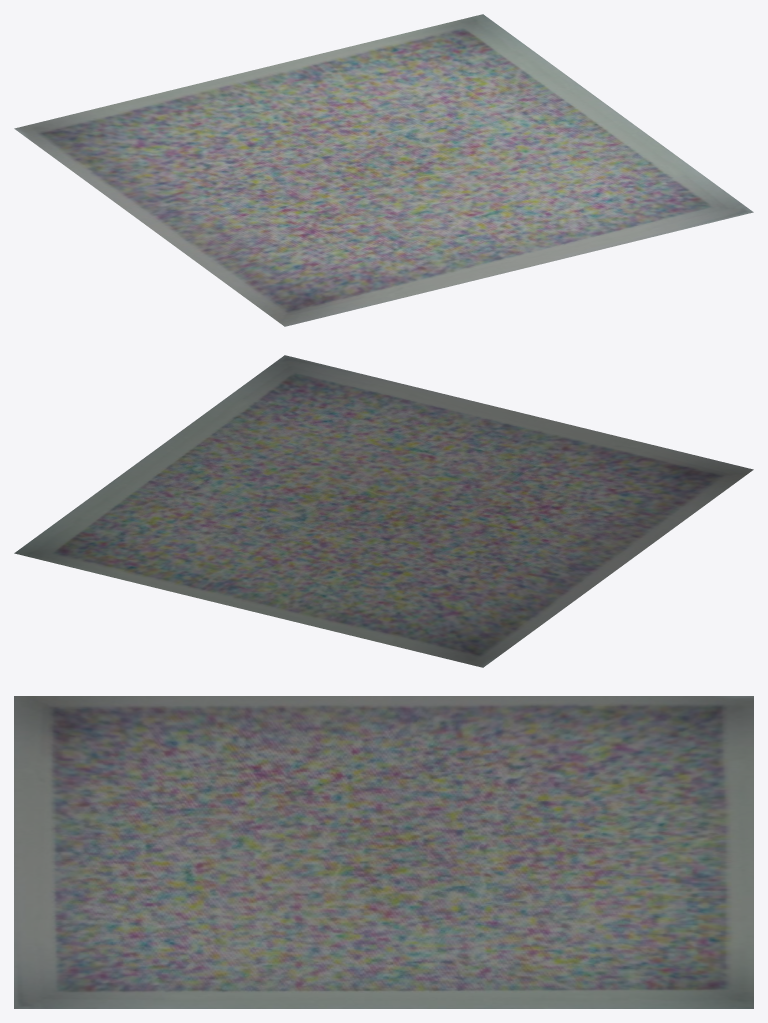
Rendered from surface_texture_refract.obj.
3 views of the same model, one above another, from view 1: azimuth 30°, elevation 25°; view 2: azimuth 150°, elevation 25°; view 3: azimuth 270°, elevation 25° (orthographic). The views are drawn at different scales.
Visible parts, largest first — view 1: surface_texture; view 2: surface_texture; view 3: surface_texture.
Part boxes in pixels (box(x1,y1,x2,y2)): surface_texture: box(14, 14, 753, 326); surface_texture: box(14, 355, 753, 667); surface_texture: box(14, 696, 753, 1008).
Bounding box in the file's own units: 26 × 0 × 26.
1 material, 1 textured.
